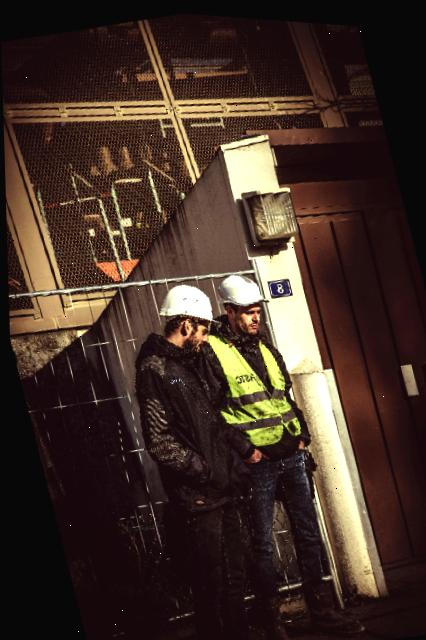helmet: (150, 276, 212, 326), (211, 268, 256, 306)
vest: (196, 318, 299, 449)
